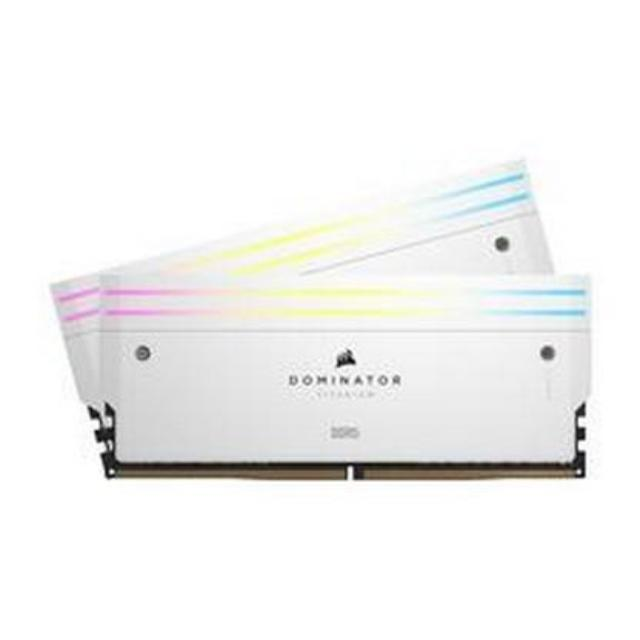RAM: (40, 159, 595, 492)
